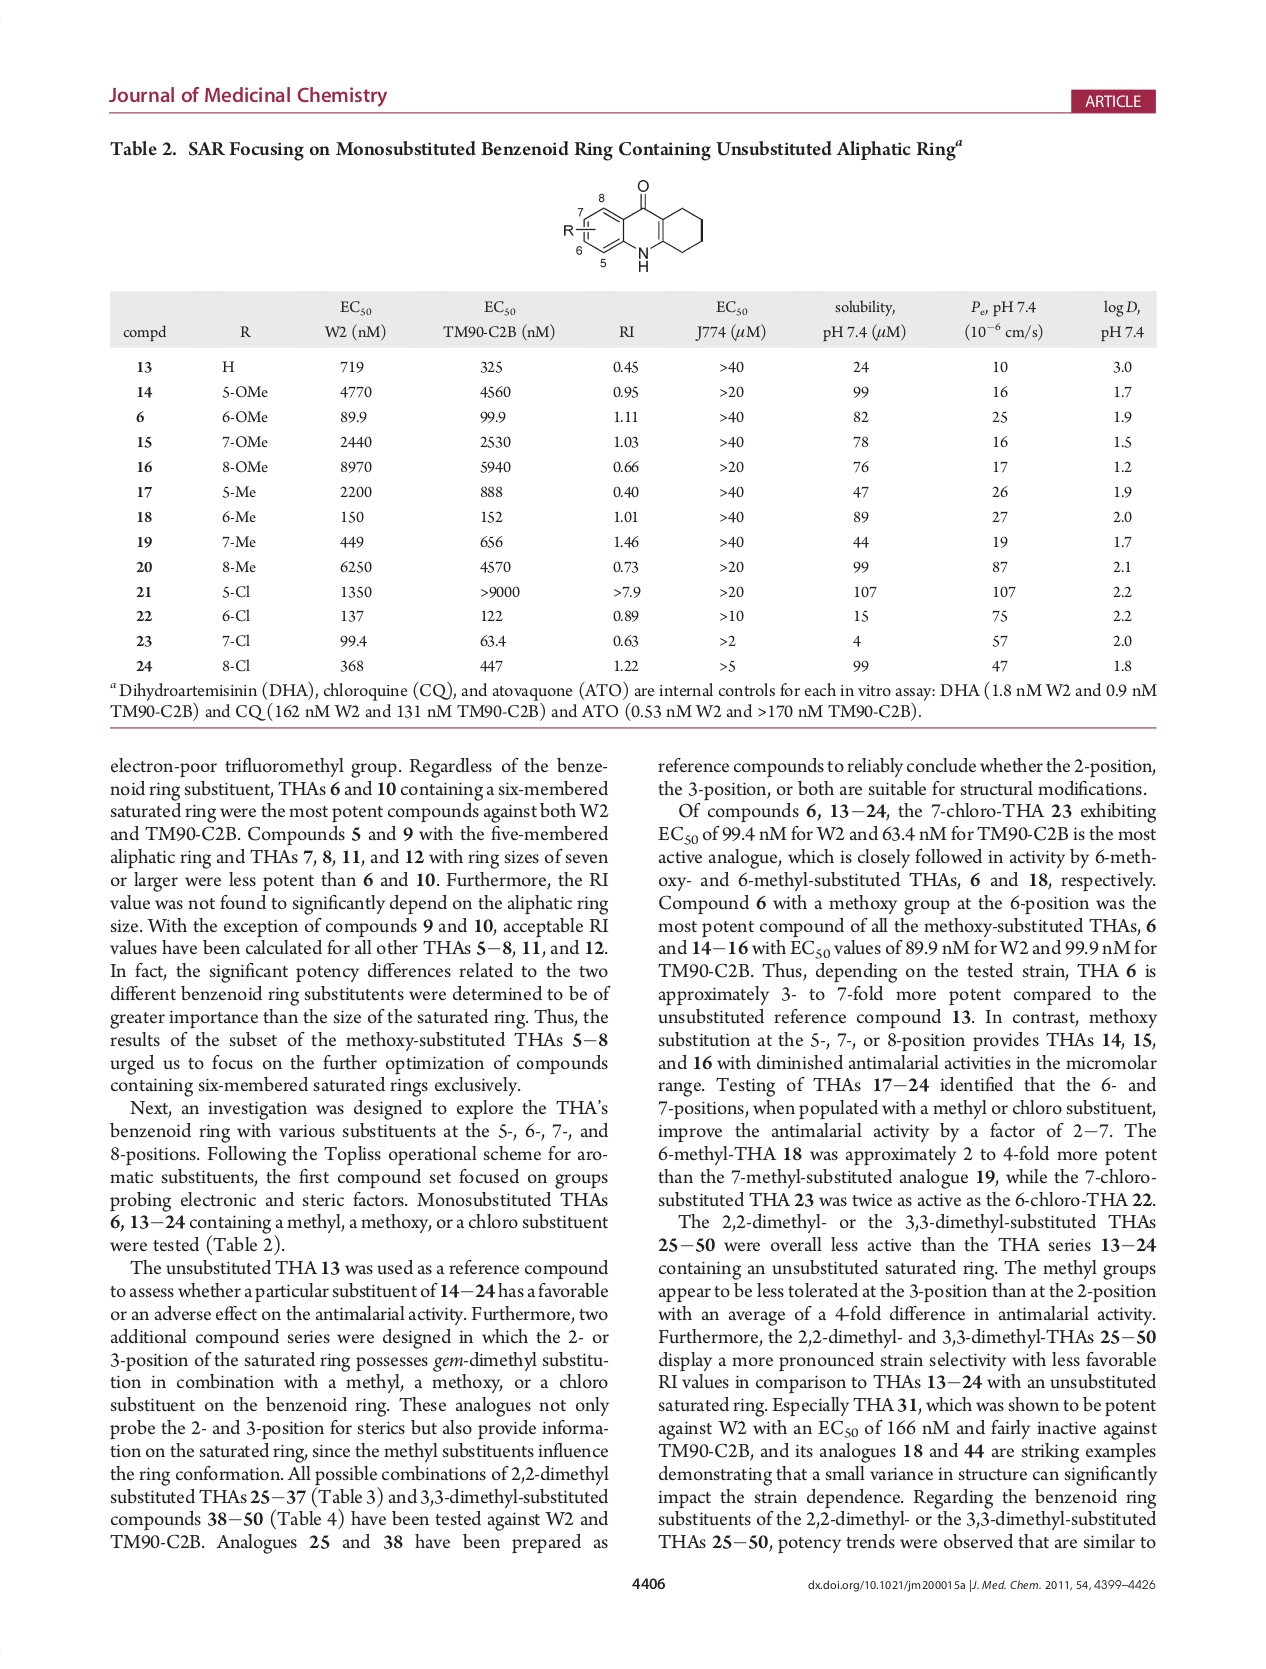exist_molecular: (560, 178, 706, 277)
